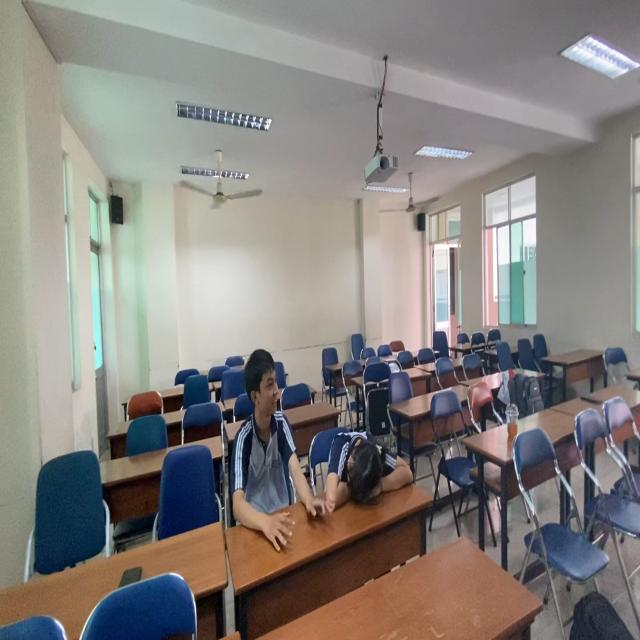sleep: (320, 413, 420, 534)
